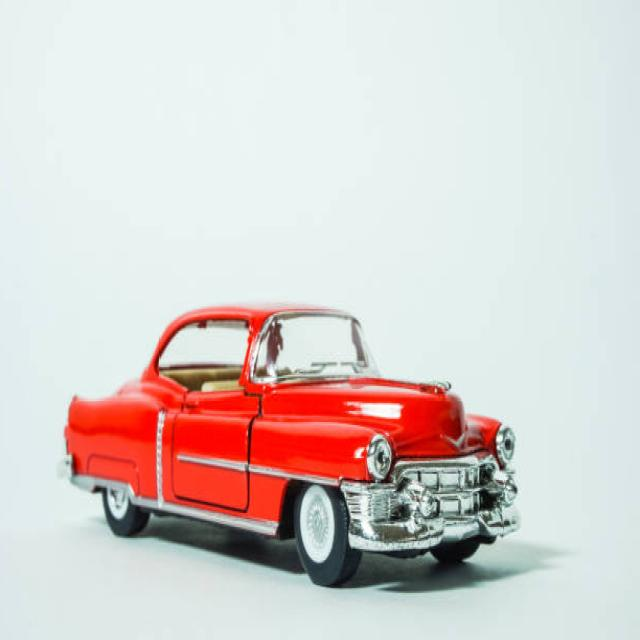Car: (64, 301, 522, 587)
